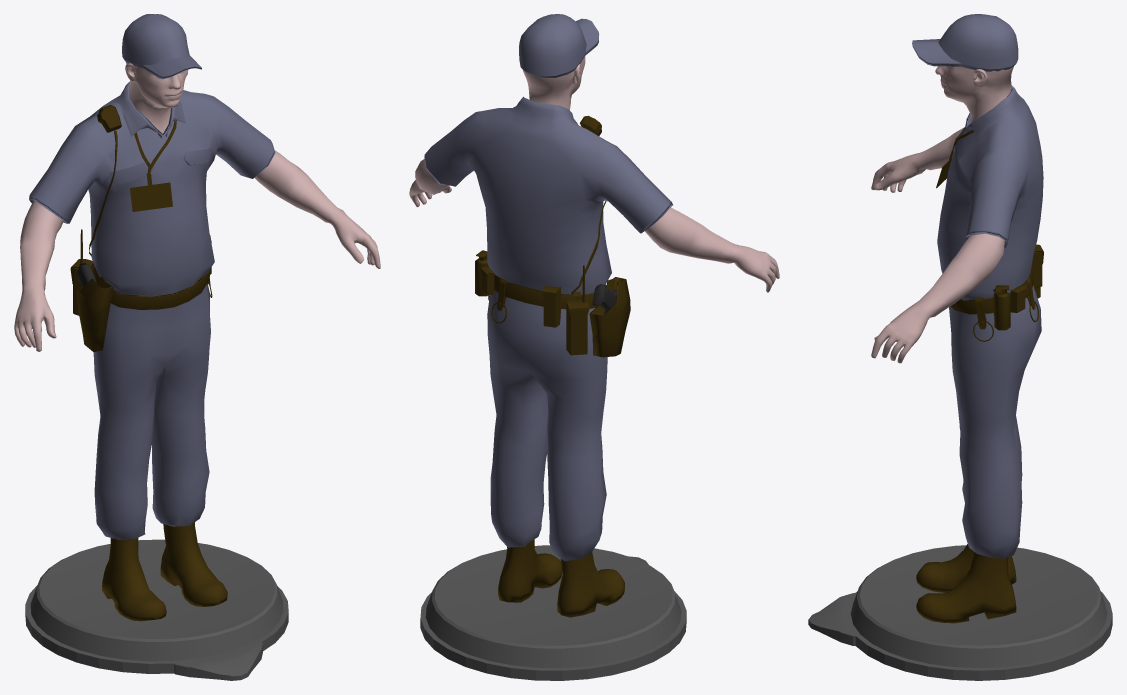
The model's file is Guard_large.fbx.
3 renders of one model, left to right at view 1: azimuth 30°, elevation 25°; view 2: azimuth 150°, elevation 25°; view 3: azimuth 270°, elevation 25°, orthographic.
Parts seen in each view (by area): view 1: guard; view 2: guard; view 3: guard.
Part boxes in pixels (bbox=[...]): guard: bbox=[14, 14, 380, 680]; guard: bbox=[409, 14, 779, 680]; guard: bbox=[808, 14, 1112, 680].
Size of the model in its own units: 82.74 by 133 by 60.4.
